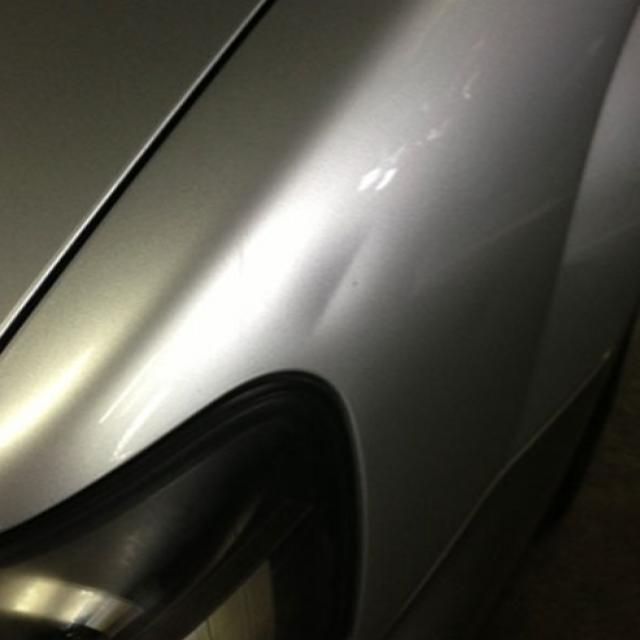dents: (294, 206, 371, 362)
